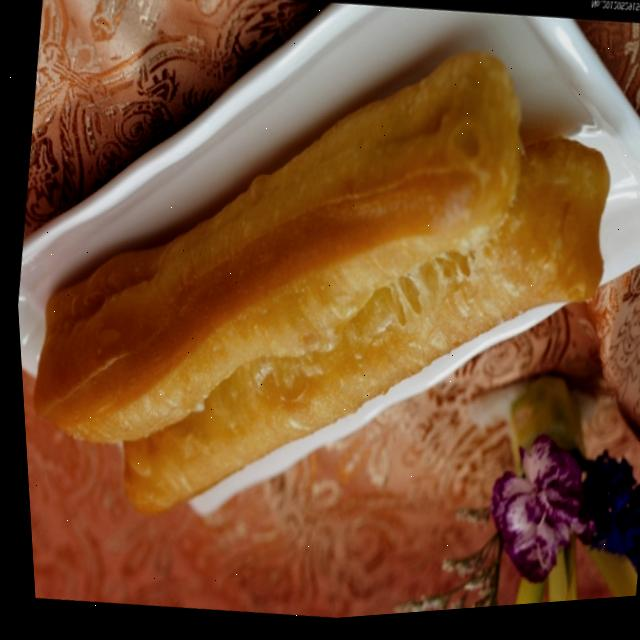炸货点心: (1, 0, 640, 602)
